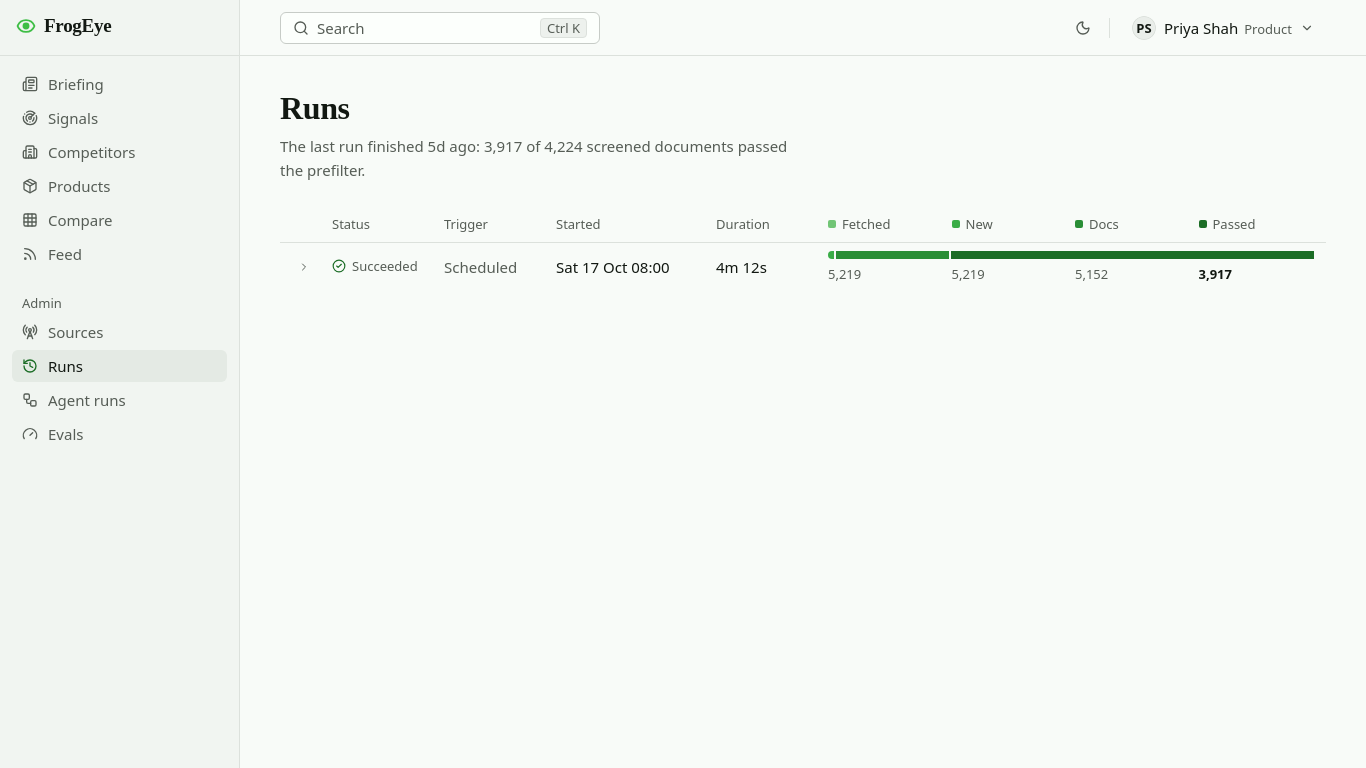
Test case: shows the corrected prefilter pass rate in a run's details
What coordinates should you click on to do the following:
click the button named "details for run 1"
I would click on:
 (304, 266)
Its box is [292,254,316,278].
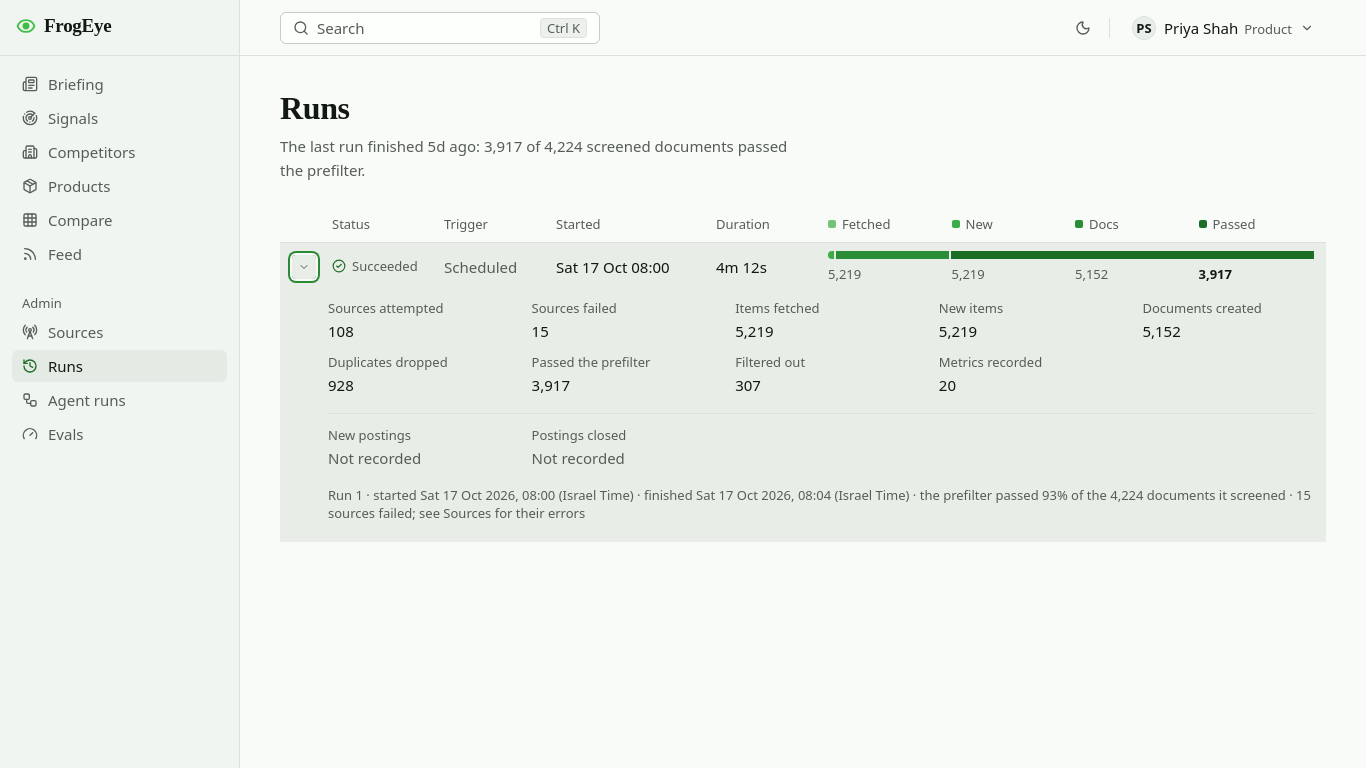
Now the text "the prefilter passed 93% of the 4,224 documents it screened" is shown, box [910,486,1286,504]
